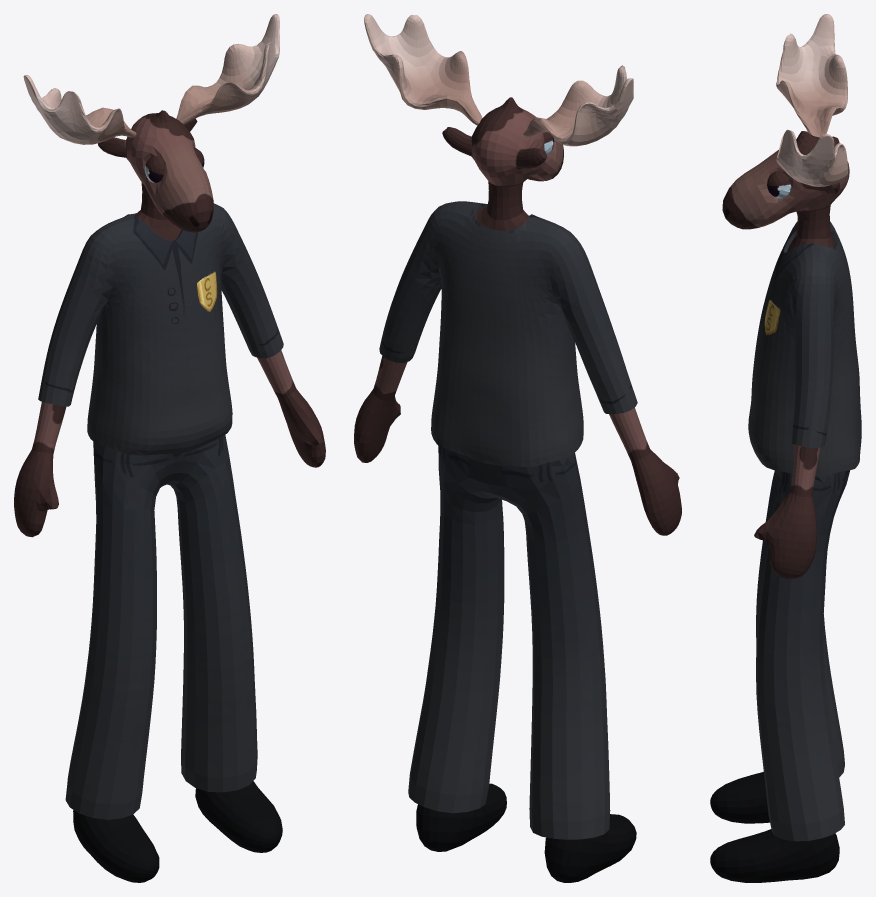
The model's file is MooseTextured.obj.
3 renders of one model, left to right at view 1: azimuth 30°, elevation 25°; view 2: azimuth 150°, elevation 25°; view 3: azimuth 270°, elevation 25°, orthographic. The views are drawn at different scales.
Visible parts, largest first — view 1: Legs_1, Shirt_1, Head_1, Horns_1, Feet_1; view 2: Legs_1, Shirt_1, Head_1, Horns_1, Feet_1; view 3: Legs_1, Shirt_1, Head_1, Horns_1, Feet_1, Eyes_1.
Boxes of the visible parts, bbox=[...] form: Legs_1: bbox=[65, 435, 257, 819]; Shirt_1: bbox=[38, 203, 283, 455]; Head_1: bbox=[14, 110, 325, 537]; Horns_1: bbox=[23, 14, 279, 144]; Feet_1: bbox=[73, 781, 282, 882]; Legs_1: bbox=[408, 445, 610, 839]; Shirt_1: bbox=[379, 201, 637, 467]; Head_1: bbox=[354, 97, 681, 535]; Horns_1: bbox=[364, 14, 633, 146]; Feet_1: bbox=[416, 783, 636, 882]; Legs_1: bbox=[756, 470, 849, 841]; Shirt_1: bbox=[748, 221, 861, 475]; Head_1: bbox=[722, 131, 849, 578]; Horns_1: bbox=[776, 14, 847, 186]; Feet_1: bbox=[710, 772, 839, 882]; Eyes_1: bbox=[767, 171, 791, 198].
Size of the model in its own units: 4.21 by 10.51 by 1.86.
6 materials, 6 textured.
